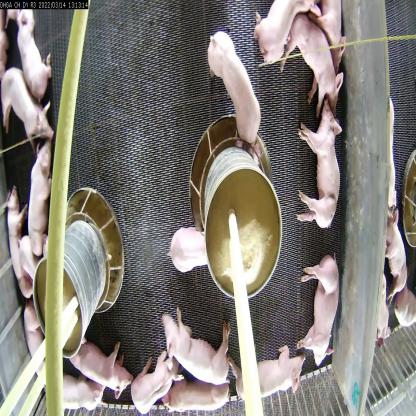Pig: (294, 99, 347, 253), (206, 22, 264, 159), (160, 297, 235, 392), (279, 12, 344, 115), (297, 253, 342, 384), (0, 62, 57, 165), (66, 321, 136, 403), (9, 5, 58, 103), (22, 138, 59, 266), (225, 346, 311, 398), (128, 336, 183, 416), (252, 4, 322, 65), (4, 179, 36, 304), (164, 372, 231, 416), (314, 0, 349, 79), (21, 300, 50, 389), (45, 374, 106, 414), (385, 201, 409, 300), (370, 269, 395, 356), (390, 277, 416, 338)
